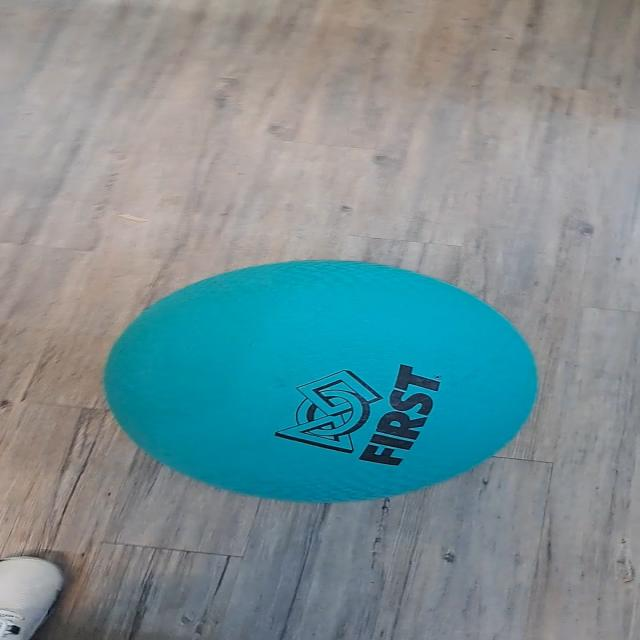ALGAE: (100, 258, 540, 504)
